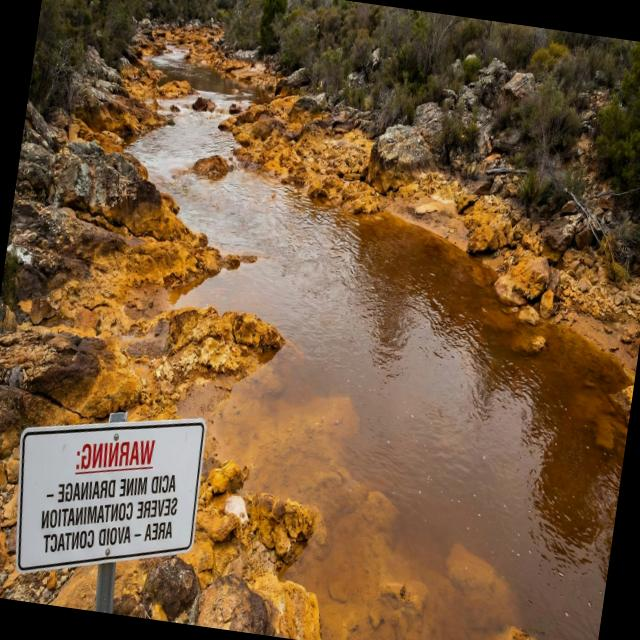yellow_boy: (129, 103, 629, 640)
